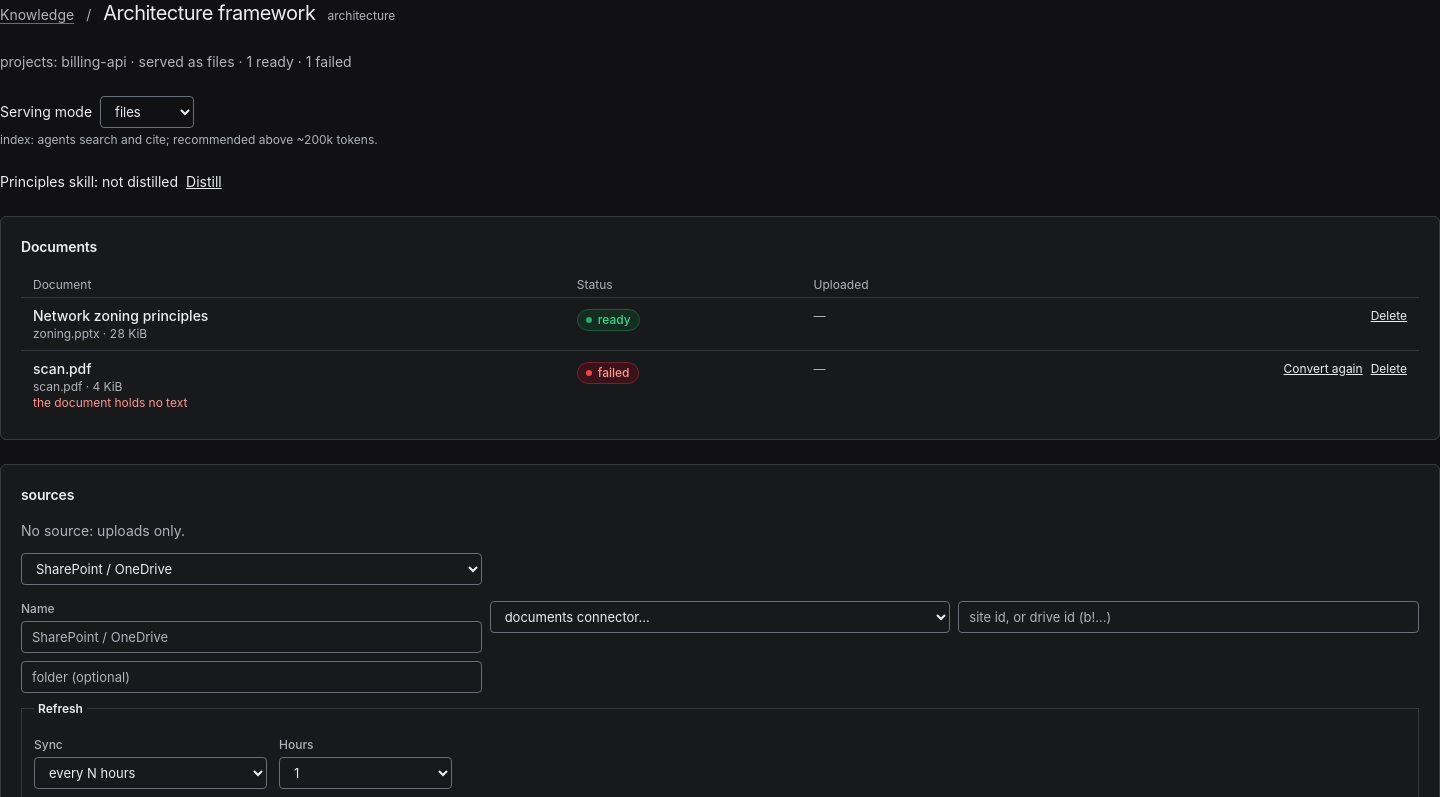
the knowledge page (S33-01) › a base shows each document's status, the reason of a failure, and its markdown
This screenshot has width=1440, height=797.
Check: the table with test id "knowledge-documents" shows "ready", box 598,312 -> 631,326
Check: the table with test id "knowledge-documents" shows "the document holds no text", box 33,394 -> 187,410
Click the button "Network zoning principles" at (121, 316), box 33,306 -> 208,326
(page scrolled)
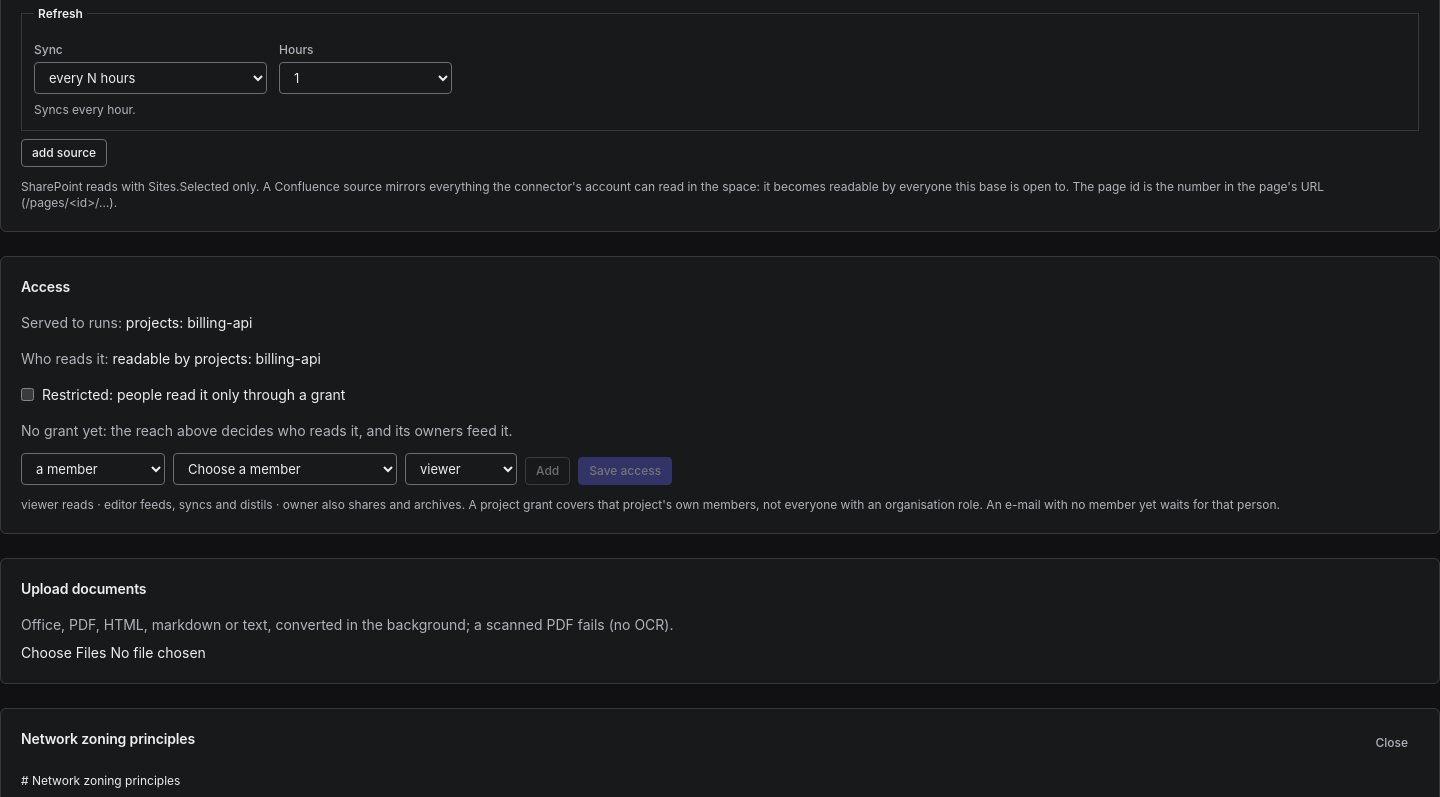
Check: the text with test id "knowledge-markdown" reads "# Network zoning principles", box 21,772 -> 180,788
